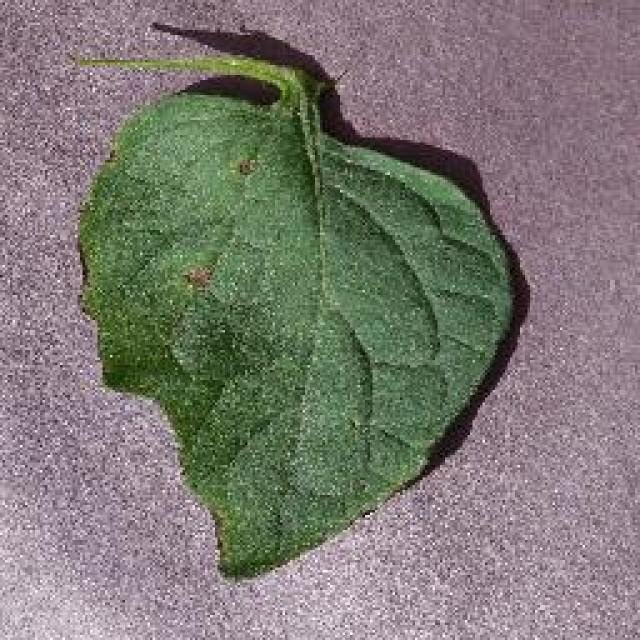Tomato___Target_Spot: (75, 55, 512, 578)
